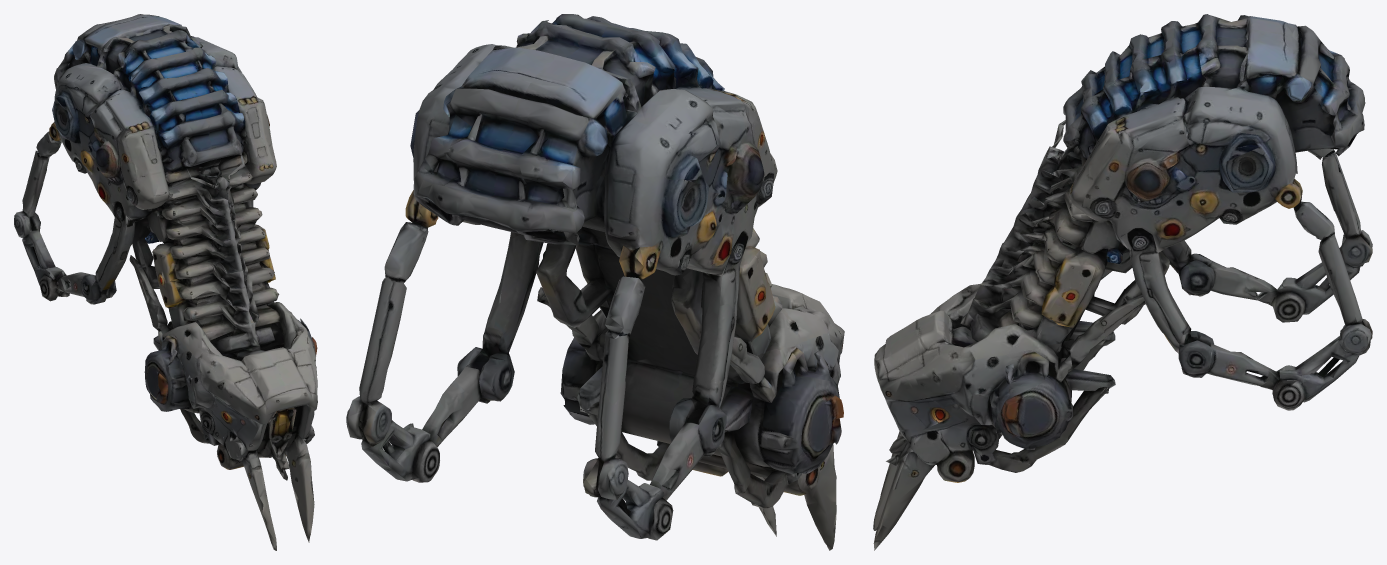
The model's file is enemy_specter.glb.
The picture shows the model from 3 angles, left to right: view 1: azimuth 30°, elevation 25°; view 2: azimuth 150°, elevation 25°; view 3: azimuth 270°, elevation 25°; orthographic projection. The views are drawn at different scales.
Visible parts, largest first — view 1: tripo_node_a37207b4-f88c-470d-a69c-c1aa457efa9f; view 2: tripo_node_a37207b4-f88c-470d-a69c-c1aa457efa9f; view 3: tripo_node_a37207b4-f88c-470d-a69c-c1aa457efa9f.
Part boxes in pixels (box(x1,y1,x2,y2)): tripo_node_a37207b4-f88c-470d-a69c-c1aa457efa9f: box(14, 14, 317, 550); tripo_node_a37207b4-f88c-470d-a69c-c1aa457efa9f: box(346, 14, 844, 550); tripo_node_a37207b4-f88c-470d-a69c-c1aa457efa9f: box(873, 14, 1372, 550).
Size of the model in its own units: 0.4221 by 0.9982 by 0.8794.
1 material, 1 textured.
